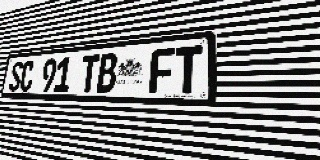1: (54, 57, 72, 92)
9: (40, 58, 58, 92)
B: (96, 53, 118, 93)
C: (19, 60, 35, 92)
F: (149, 48, 175, 93)
S: (8, 61, 23, 91)
T: (174, 45, 202, 94), (79, 54, 100, 92)
